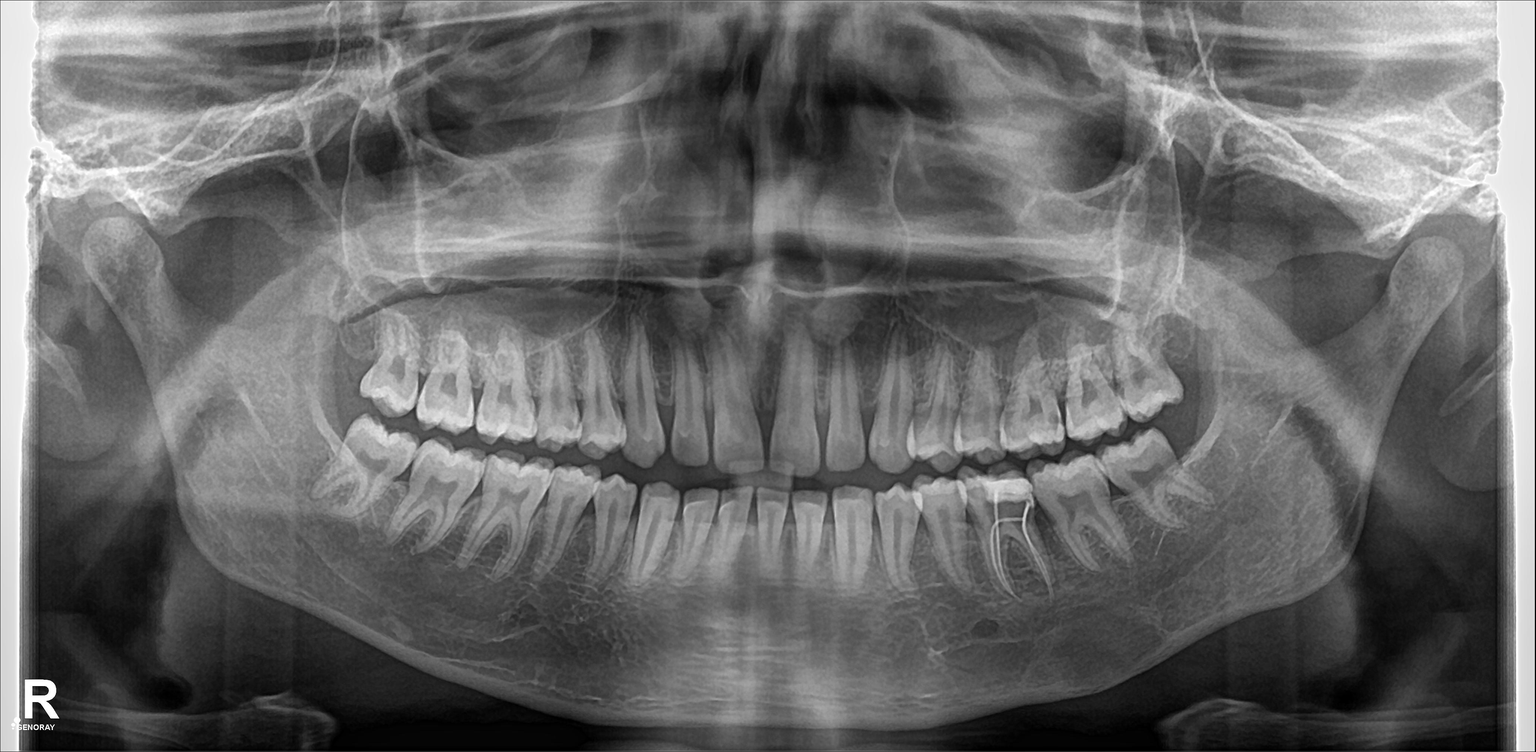Endodontically Treated Tooth: (974, 471, 1043, 606)
Missing Tooth: (320, 307, 368, 402), (1164, 320, 1208, 396)
